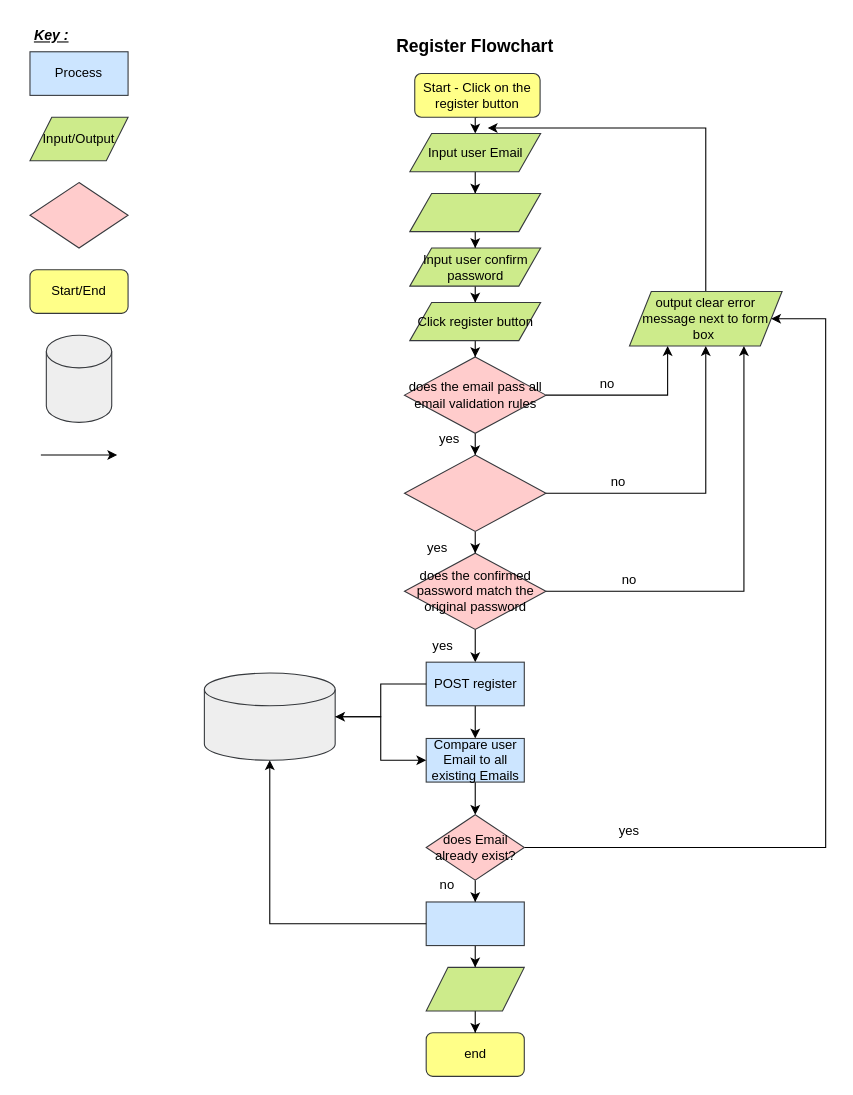
Image size: 853x1095. Some labels were removed from this diagram. The shapes that lost their labels are listed below. From the top down, each one's centre as x and y in pixels, then its label:
At (78,214): "Decision".
At (475,212): "Input user password".
At (78,378): "Database".
At (474,492): "does the password pass all password validation rules".
At (269,716): "ApplicationDbContext".
At (474,923): "save changes".
At (474,988): "return view".
